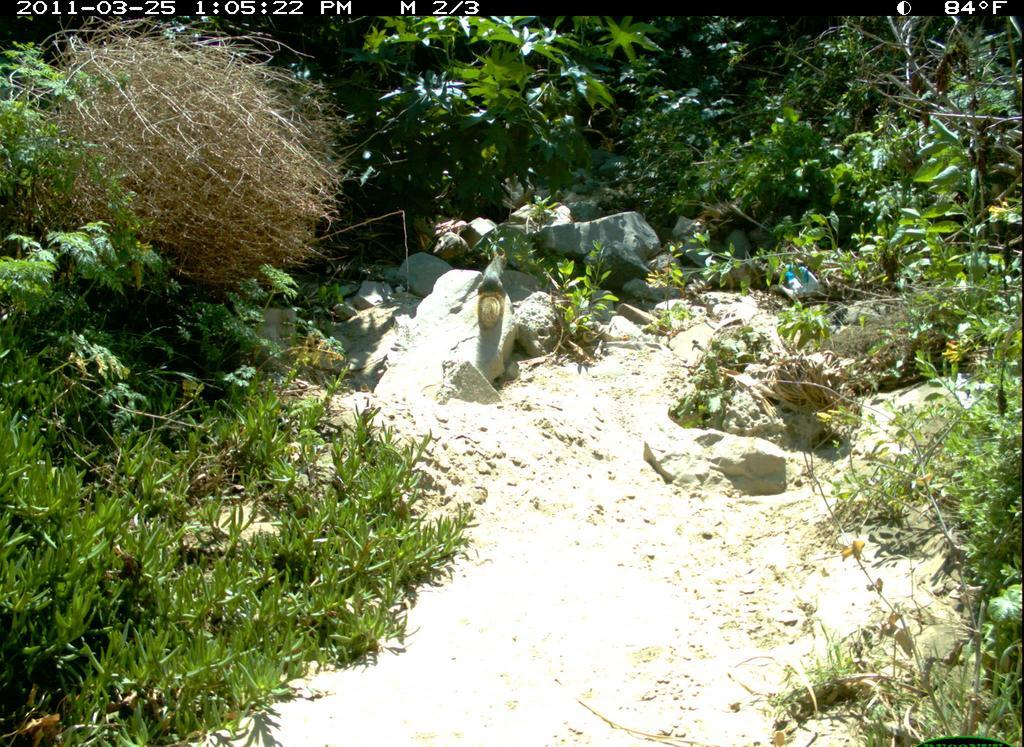squirrel: (477, 244, 524, 336)
